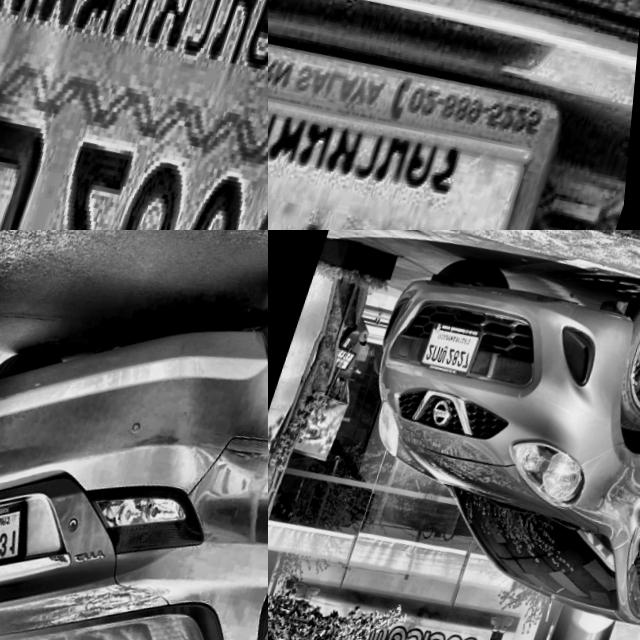license-plate: (268, 0, 606, 230), (0, 0, 268, 230), (0, 481, 50, 598), (417, 315, 487, 383)
